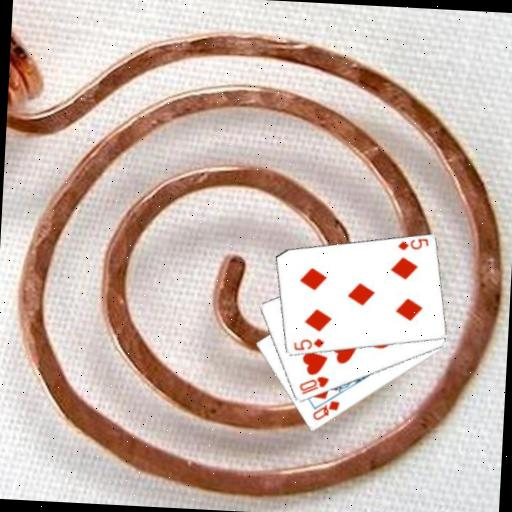10H: (296, 372, 331, 397)
5D: (290, 334, 326, 354), (395, 234, 431, 254)
QD: (309, 397, 341, 424)
